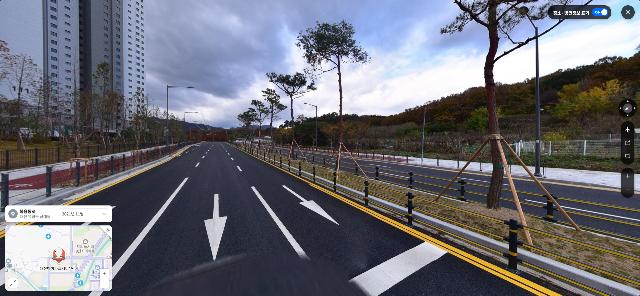other: (440, 0, 596, 210), (296, 21, 372, 171), (40, 51, 90, 160), (0, 39, 48, 150), (266, 72, 317, 159), (86, 61, 131, 145), (261, 88, 288, 152), (250, 100, 271, 151), (237, 109, 259, 149)
